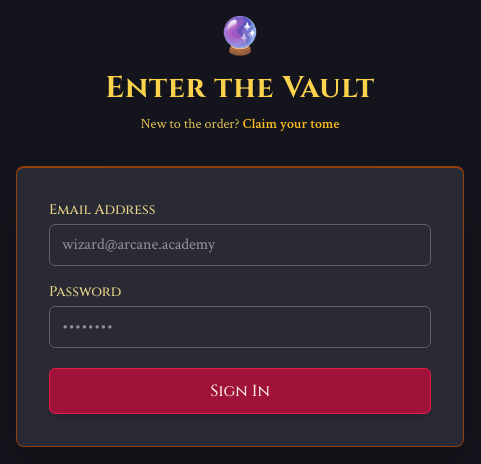
Test: LoginPage › disables the submit button and shows loading text while login is in progress
Type "wizard@test.com" into the field labelled "Email Address" at coordinates (240, 244), box [49,224,431,266]
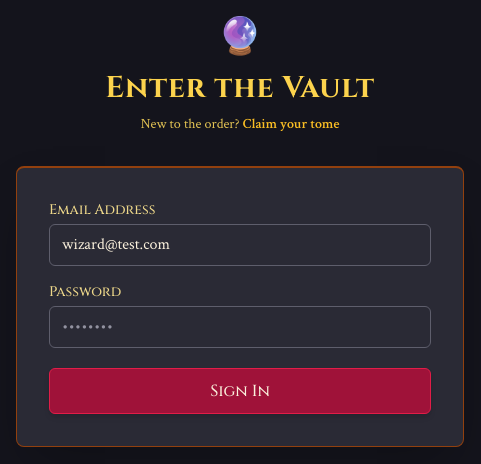
Type "password123" into the password field labelled "Password" at coordinates (240, 326), box [49,306,431,348]
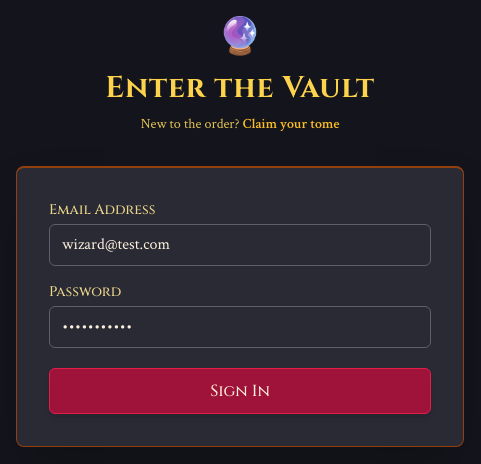
Click the button "Sign In" at coordinates (240, 390), box [49,368,431,414]
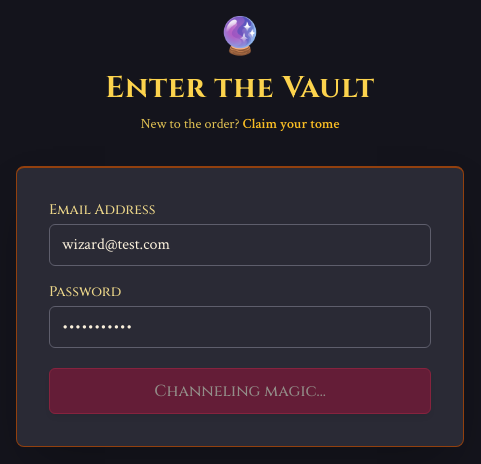
Result: the button "Channeling magic..." is disabled at [49,368,431,414]
